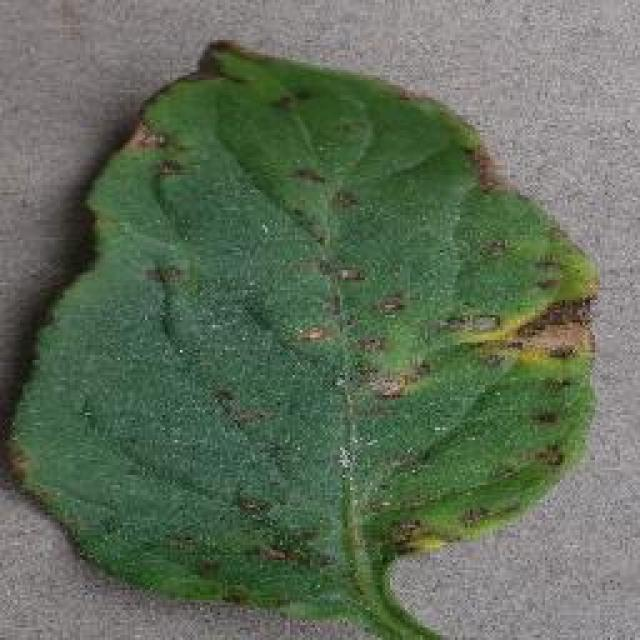Tomato bacterial spot leaf: (0, 30, 603, 620)
